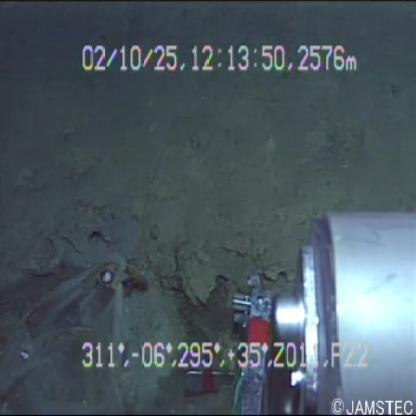Rov: (179, 170, 414, 416)
Rác: (1, 237, 156, 415)
